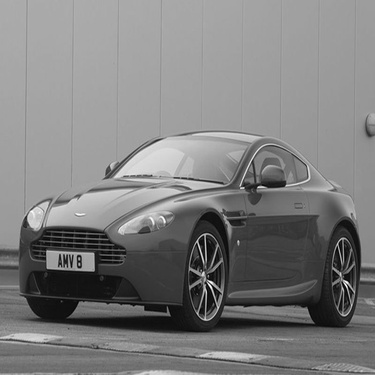car: (16, 123, 364, 313)
